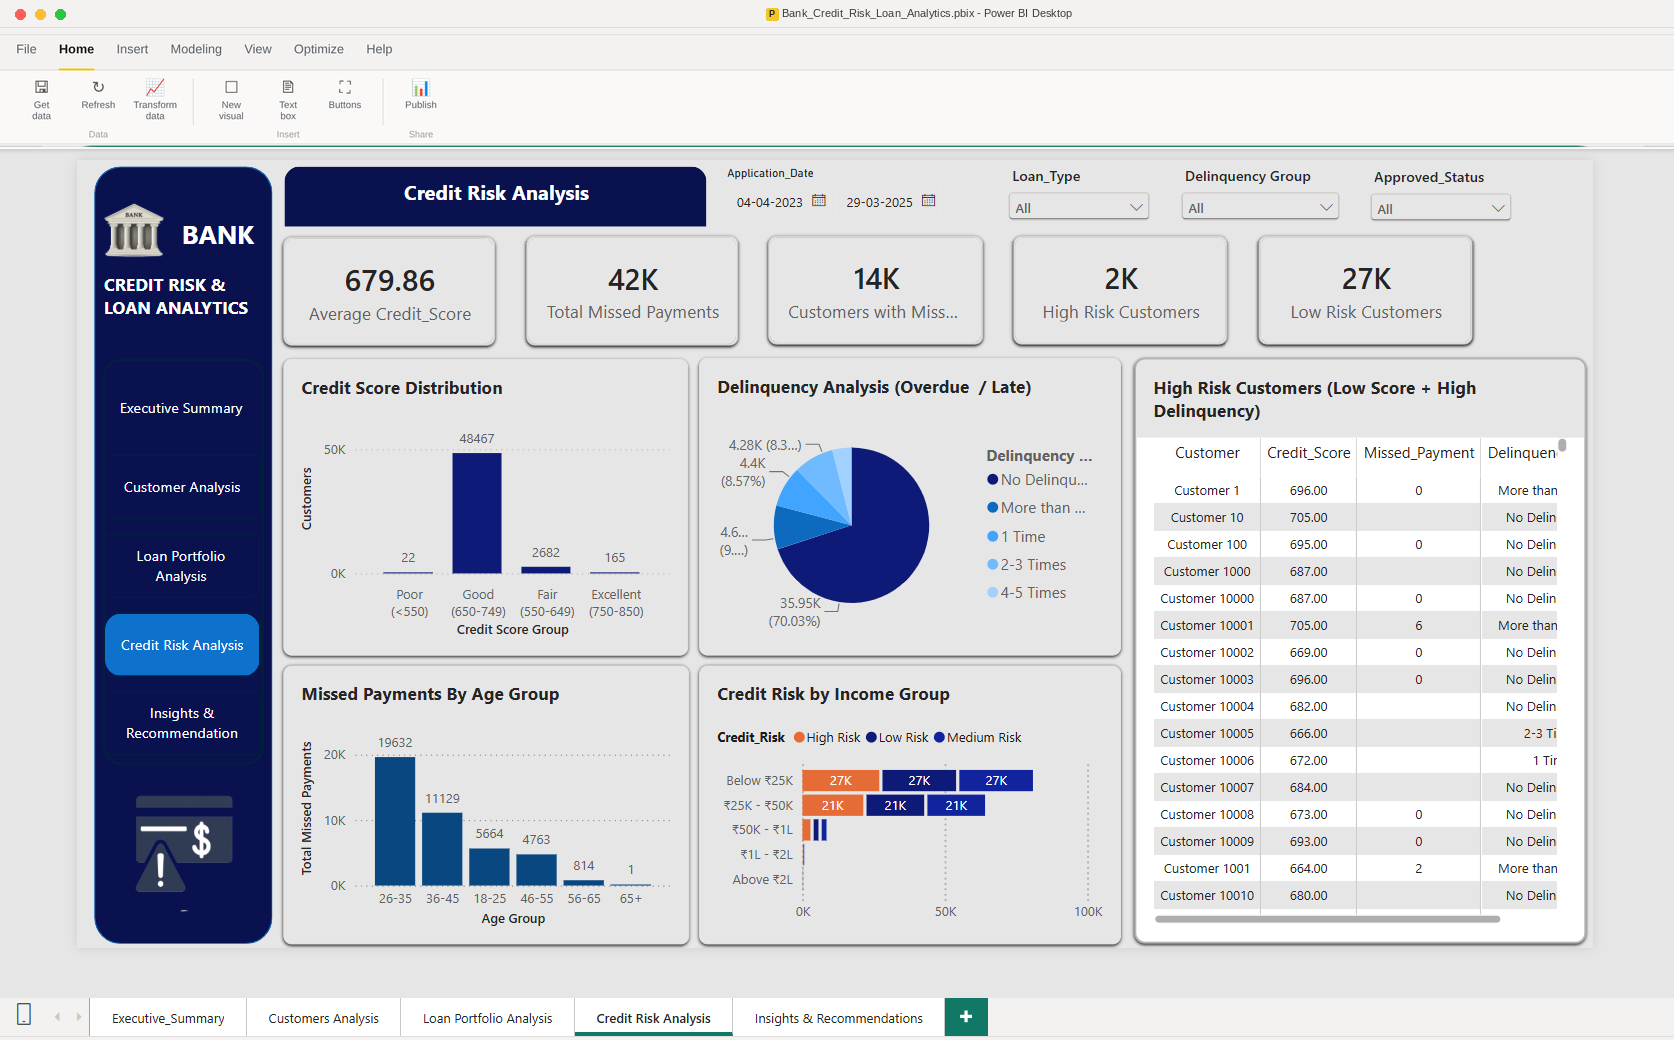

The dashboard page shown, as its layout file describes it:
{"tool":"powerbi","page":{"name":"Credit Risk Analysis","canvas":[1404,730],"ordinal":3},"visuals":[{"type":"shape","box":[16.4,6.2,165,720],"z":0},{"type":"image","box":[16.4,27,71.8,77],"z":1000},{"type":"textbox","box":[88.1,51.9,85.3,36.4],"z":2000},{"type":"textbox","box":[24.7,103.9,174.3,55.7],"z":3000},{"type":"shape","box":[23.9,184.1,148.7,375.5],"z":4000},{"type":"actionButton","title":"Executive Summary","box":[23.9,199.7,145,60.3],"z":5000},{"type":"actionButton","title":"Executive Summary","box":[25,272.7,145,60.3],"z":6000},{"type":"actionButton","title":"Executive Summary","box":[23.9,345.8,145,60.3],"z":7000},{"type":"actionButton","title":"Executive Summary","box":[25,418.9,145,60.3],"z":8000},{"type":"actionButton","title":"Executive Summary","box":[25,491.9,145,60.3],"z":9000},{"type":"shape","box":[192.1,6.3,390.5,55.9],"z":10000},{"type":"textbox","box":[223.8,16.9,329.3,34.8],"z":11000},{"type":"slicer","fields":{"Values":["Dim_Customer.Application_Date"]},"box":[594.1,6,233.2,64.3],"z":12000},{"type":"slicer","fields":{"Values":["Fact_loan.Loan_Type"]},"box":[858.4,5,140,60.3],"z":13000},{"type":"slicer","fields":{"Values":["Dim_Customer.Delinquency Group"]},"box":[1017.7,5.3,156.5,59.9],"z":14000},{"type":"cardVisual","fields":{"Data":["Avg(Dim_Customer.Credit_Score)"]},"box":[191,70.7,196.3,101.3],"z":15000},{"type":"slicer","fields":{"Values":["Dim_Customer.Approved_Status"]},"box":[1193.4,6.3,140,60.3],"z":16000},{"type":"cardVisual","fields":{"Data":["Sum(Fact_loan.Tot_Missed_Pmnt)"]},"box":[415.6,70.4,196.3,101.3],"z":17000},{"type":"cardVisual","fields":{"Data":["Dim_Customer.Customers with Missed Payments"]},"box":[640.1,70.4,198.6,100.9],"z":18000},{"type":"cardVisual","fields":{"Data":["Dim_Customer.High Risk Customers"]},"box":[866.9,70.4,198.6,100.9],"z":19000},{"type":"cardVisual","fields":{"Data":["Dim_Customer.Low Risk Customers"]},"box":[1093.6,70.4,198.6,100.9],"z":20000},{"type":"clusteredColumnChart","title":"Credit Score Distribution","fields":{"Category":["Dim_Customer.Credit Score Group"],"Y":["CountNonNull(Dim_Customer.PROSPECTID)"]},"box":[191.2,183.8,375,275.2],"z":21000},{"type":"pieChart","title":"Delinquency Analysis (Overdue  / Late)","fields":{"Category":["Dim_Customer.Delinquency Group"],"Y":["CountNonNull(Dim_Customer.PROSPECTID)"]},"box":[575.6,183.3,391.1,275.6],"z":22000},{"type":"tableEx","title":"High Risk Customers (Low Score + High Delinquency)","fields":{"Values":["Dim_Customer.Customer","Avg(Dim_Customer.Credit_Score)","Sum(Fact_loan.Tot_Missed_Pmnt)","Dim_Customer.Delinquency Group"]},"box":[978.9,183.3,418.9,542.2],"z":23000},{"type":"clusteredColumnChart","title":"Missed Payments By Age Group","fields":{"Category":["Dim_Customer.Age Group"],"Y":["Sum(Fact_loan.Tot_Missed_Pmnt)"]},"box":[191.1,467.8,375.6,258.9],"z":24000},{"type":"barChart","title":"Credit Risk by Income Group","fields":{"Category":["Dim_Customer.Income Group"],"Series":["Fact_loan.Credit_Risk"],"Y":["CountNonNull(Dim_Customer.PROSPECTID)"]},"box":[575.6,467.8,391.1,258.9],"z":25000}]}

Visuals, with their boxes on the page's 1404x730 design canvas (x1, y1, x2, y2). These are canvas units, not pixel positions in the 1674x1040 screenshot, which may show the page scaled, cropped or inside an application window:
shape: bbox=[16, 6, 181, 726]
image: bbox=[16, 27, 88, 104]
textbox: bbox=[88, 52, 173, 88]
textbox: bbox=[25, 104, 199, 160]
shape: bbox=[24, 184, 173, 560]
"Executive Summary" actionButton: bbox=[24, 200, 169, 260]
"Executive Summary" actionButton: bbox=[25, 273, 170, 333]
"Executive Summary" actionButton: bbox=[24, 346, 169, 406]
"Executive Summary" actionButton: bbox=[25, 419, 170, 479]
"Executive Summary" actionButton: bbox=[25, 492, 170, 552]
shape: bbox=[192, 6, 583, 62]
textbox: bbox=[224, 17, 553, 52]
slicer - Dim_Customer.Application_Date: bbox=[594, 6, 827, 70]
slicer - Fact_loan.Loan_Type: bbox=[858, 5, 998, 65]
slicer - Dim_Customer.Delinquency Group: bbox=[1018, 5, 1174, 65]
cardVisual - Avg(Dim_Customer.Credit_Score): bbox=[191, 71, 387, 172]
slicer - Dim_Customer.Approved_Status: bbox=[1193, 6, 1333, 67]
cardVisual - Sum(Fact_loan.Tot_Missed_Pmnt): bbox=[416, 70, 612, 172]
cardVisual - Dim_Customer.Customers with Missed Payments: bbox=[640, 70, 839, 171]
cardVisual - Dim_Customer.High Risk Customers: bbox=[867, 70, 1066, 171]
cardVisual - Dim_Customer.Low Risk Customers: bbox=[1094, 70, 1292, 171]
"Credit Score Distribution" clusteredColumnChart: bbox=[191, 184, 566, 459]
"Delinquency Analysis (Overdue  / Late)" pieChart: bbox=[576, 183, 967, 459]
"High Risk Customers (Low Score + High Delinquency)" tableEx: bbox=[979, 183, 1398, 726]
"Missed Payments By Age Group" clusteredColumnChart: bbox=[191, 468, 567, 727]
"Credit Risk by Income Group" barChart: bbox=[576, 468, 967, 727]
